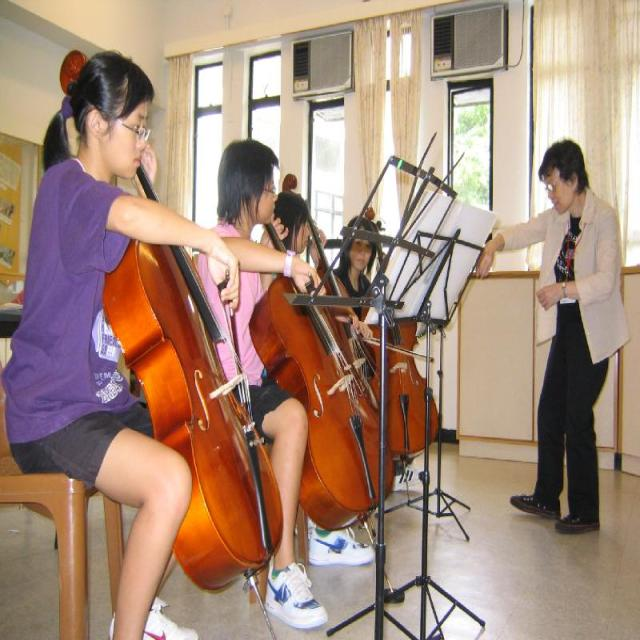cello: (101, 153, 286, 596), (248, 221, 398, 534), (365, 205, 444, 454), (309, 209, 370, 417)
